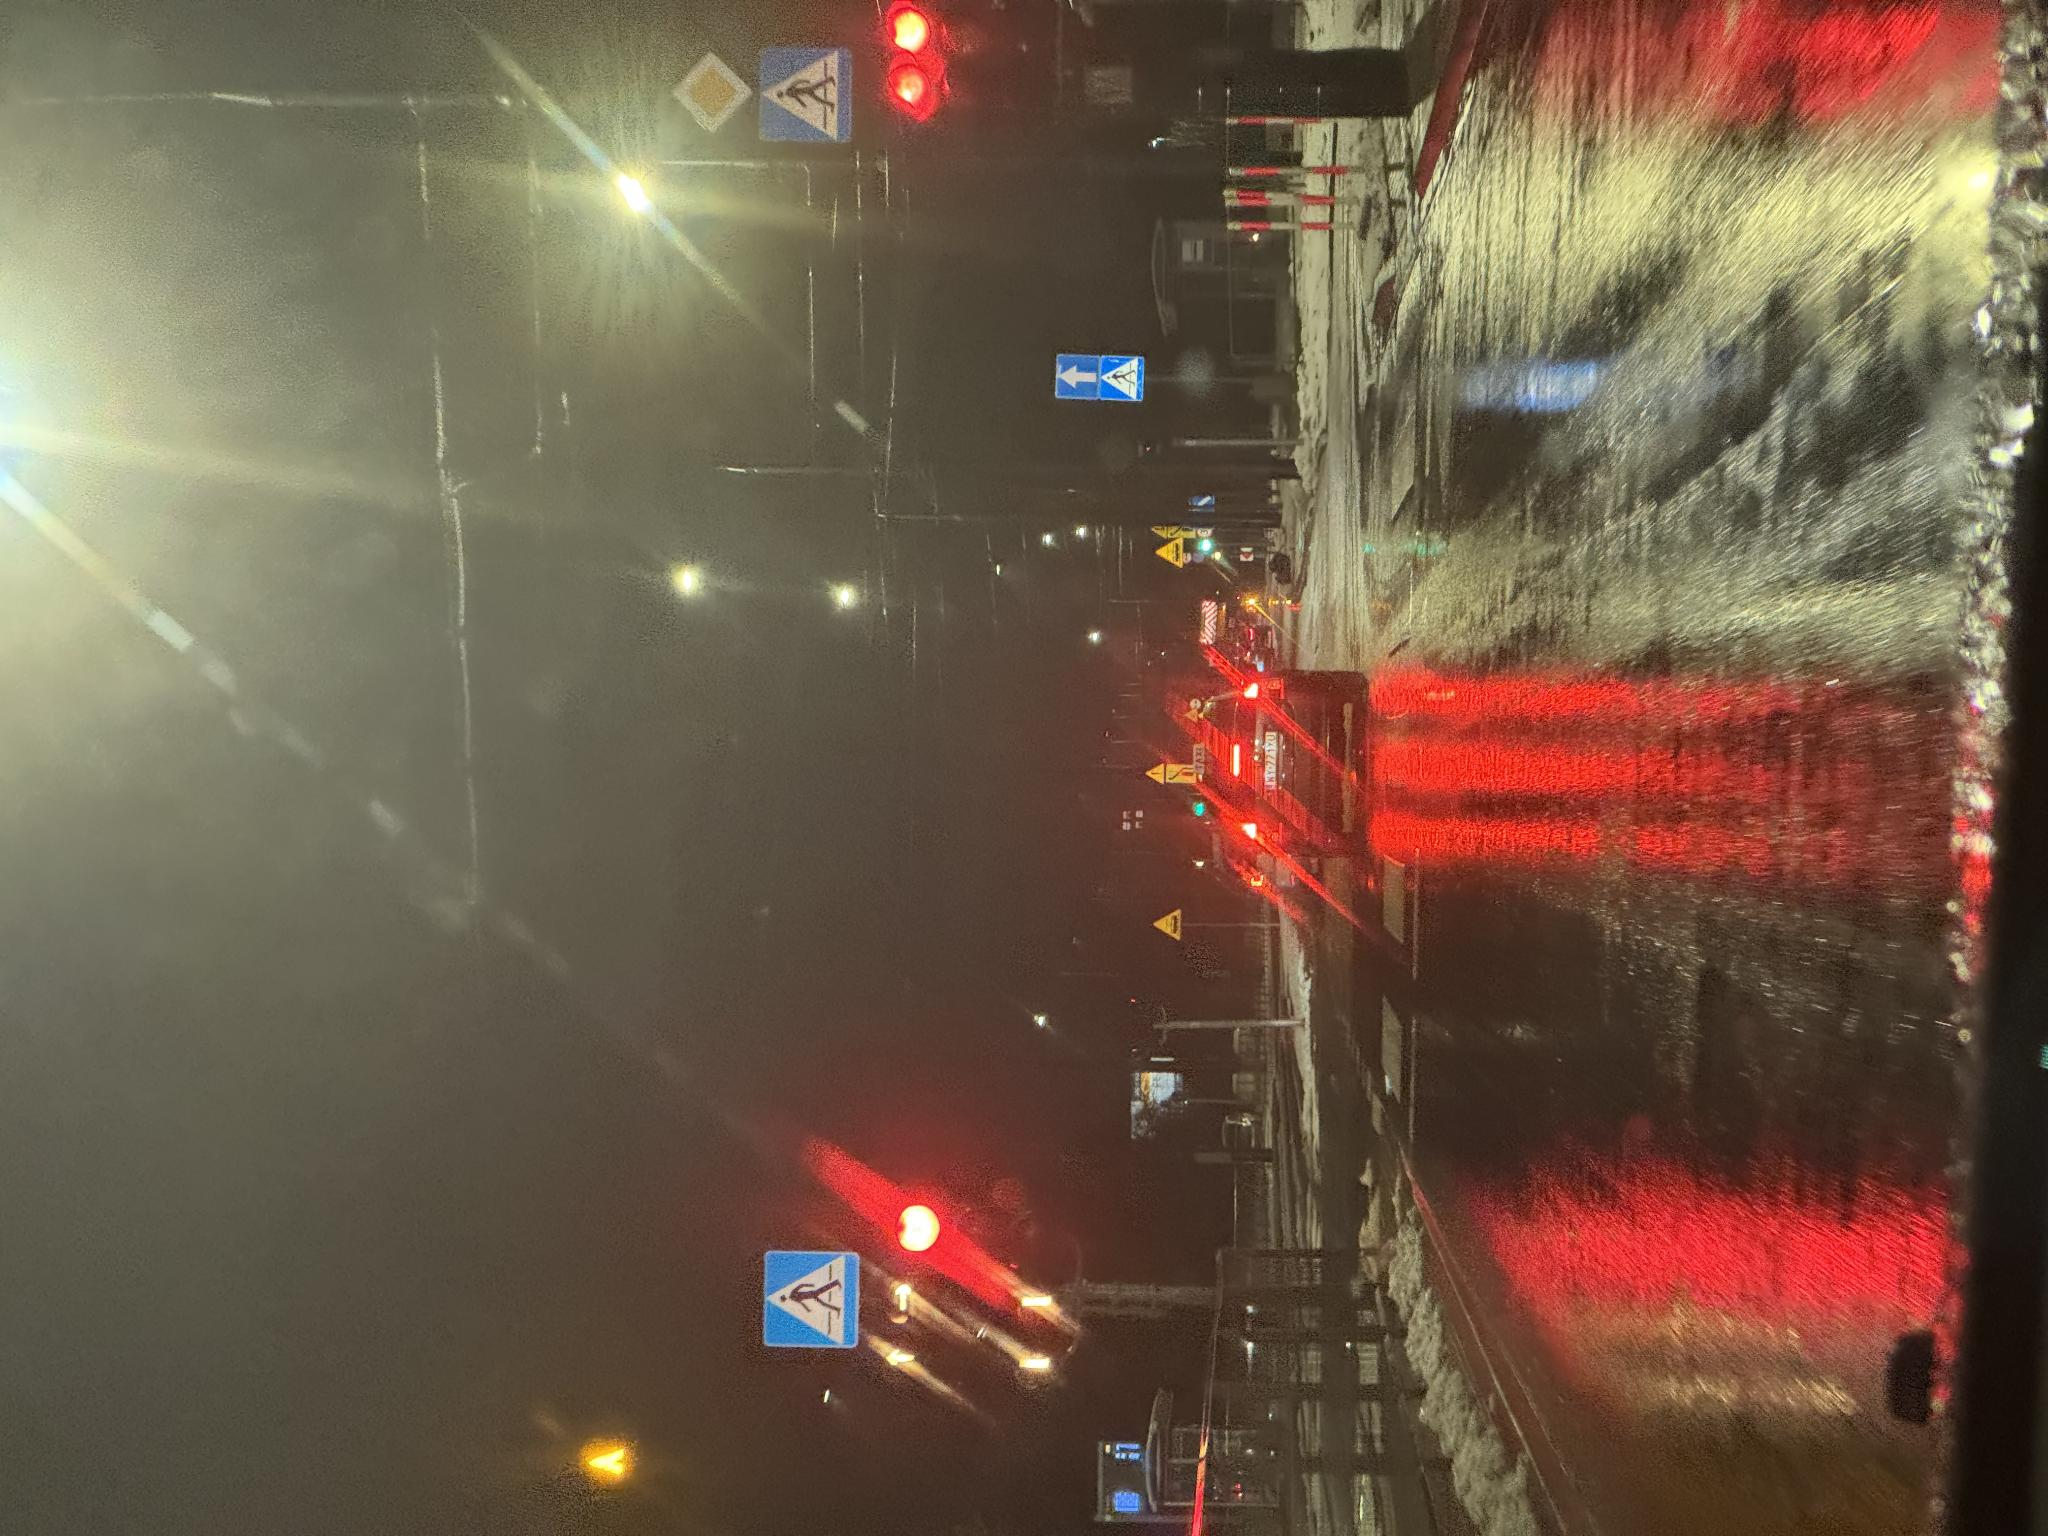information: (185, 760, 289, 862), (1393, 758, 1496, 854), (1400, 671, 1487, 753), (1135, 1054, 1182, 1100), (1135, 1099, 1180, 1144)
warning: (595, 1150, 629, 1181), (968, 1155, 998, 1184), (750, 1146, 774, 1165)
